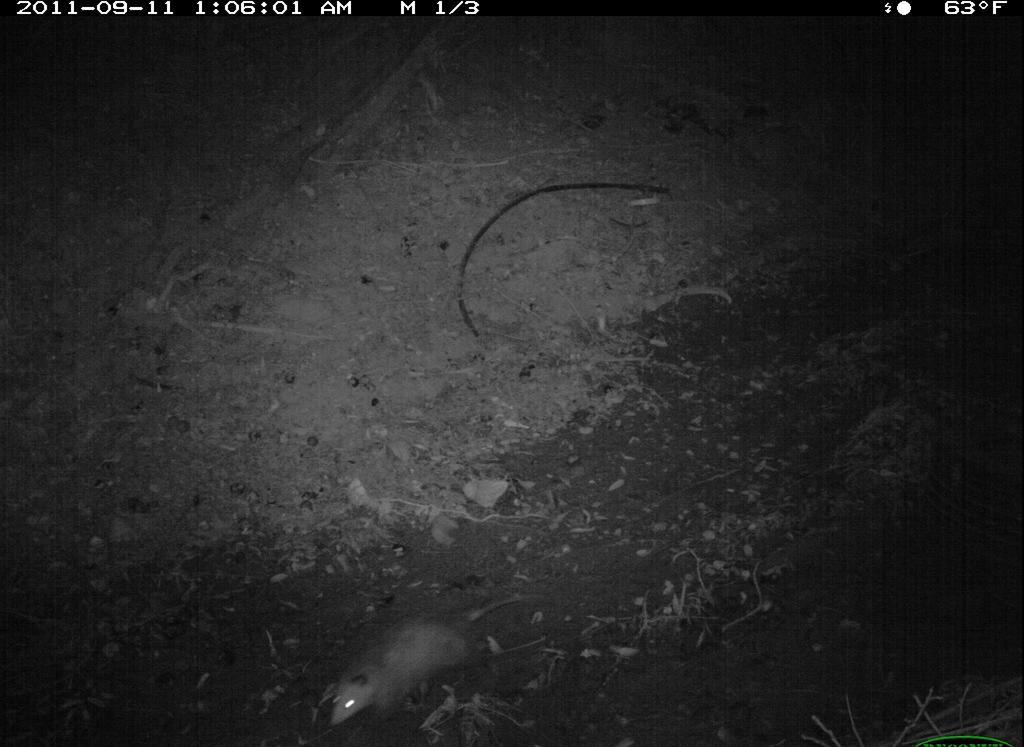opossum: (326, 588, 538, 738)
